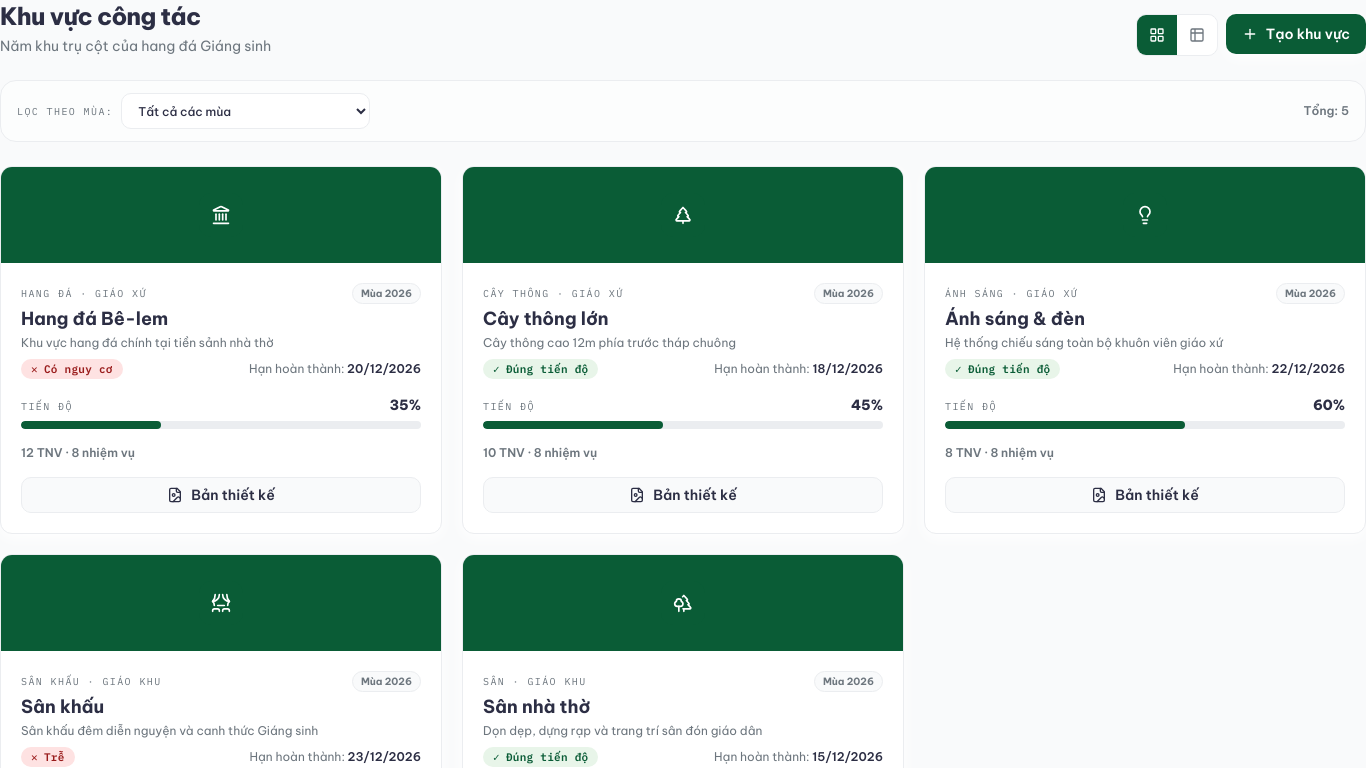
Lọc khu vực theo mùa: chọn mùa 2025 thì không có khu nào, chọn mùa 2026 thì có 5 khu
Chọn mùa s0 (2025)
Select "Mùa Giáng sinh 2025 (Đã chốt)" in the dropdown labelled "Lọc theo mùa:" at (246, 111), box top-left (121, 93), bottom-right (370, 129)
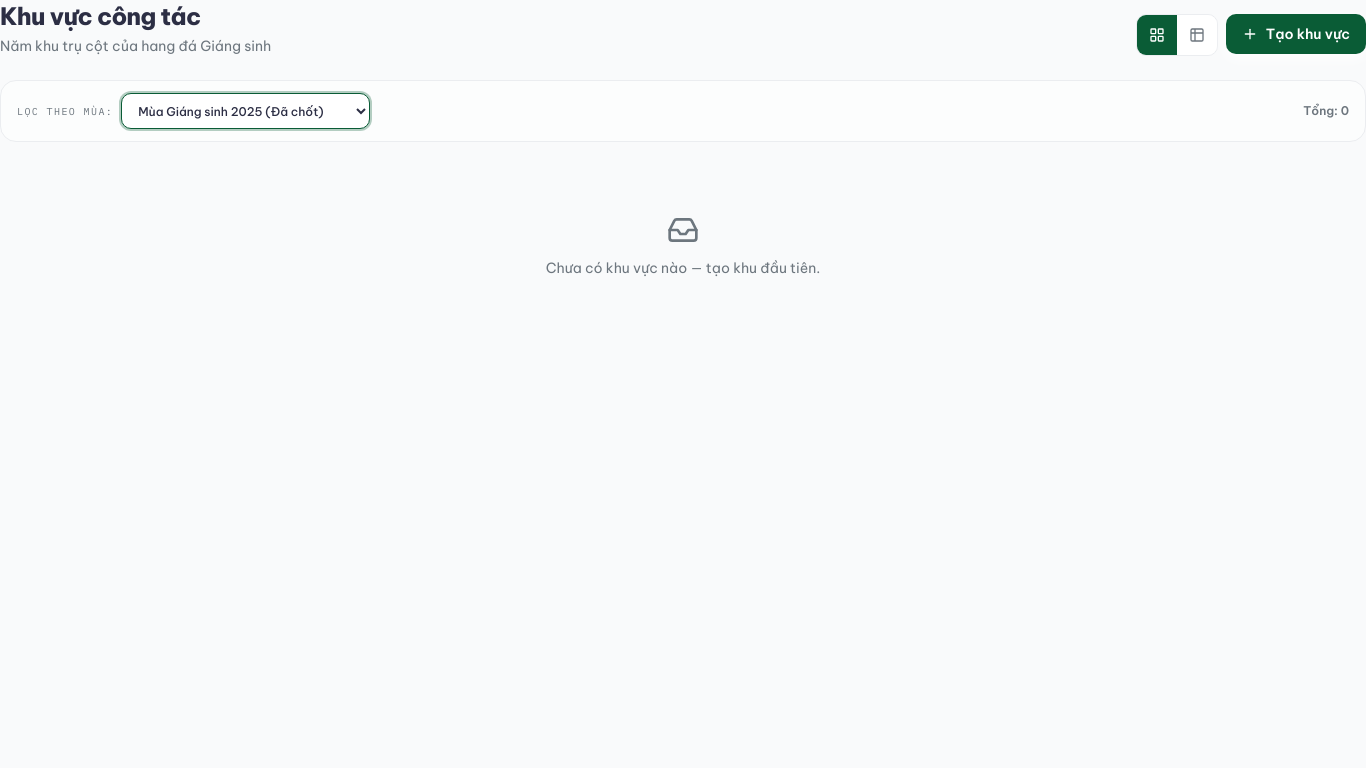
Expected: the text "Chưa có khu vực nào — tạo khu đầu tiên." is shown, top-left (546, 258), bottom-right (820, 278)
Chọn mùa s1 (2026)
Select "Mùa Giáng sinh 2026 (Đang chạy)" in the dropdown labelled "Lọc theo mùa:" at (246, 111), box top-left (121, 93), bottom-right (370, 129)
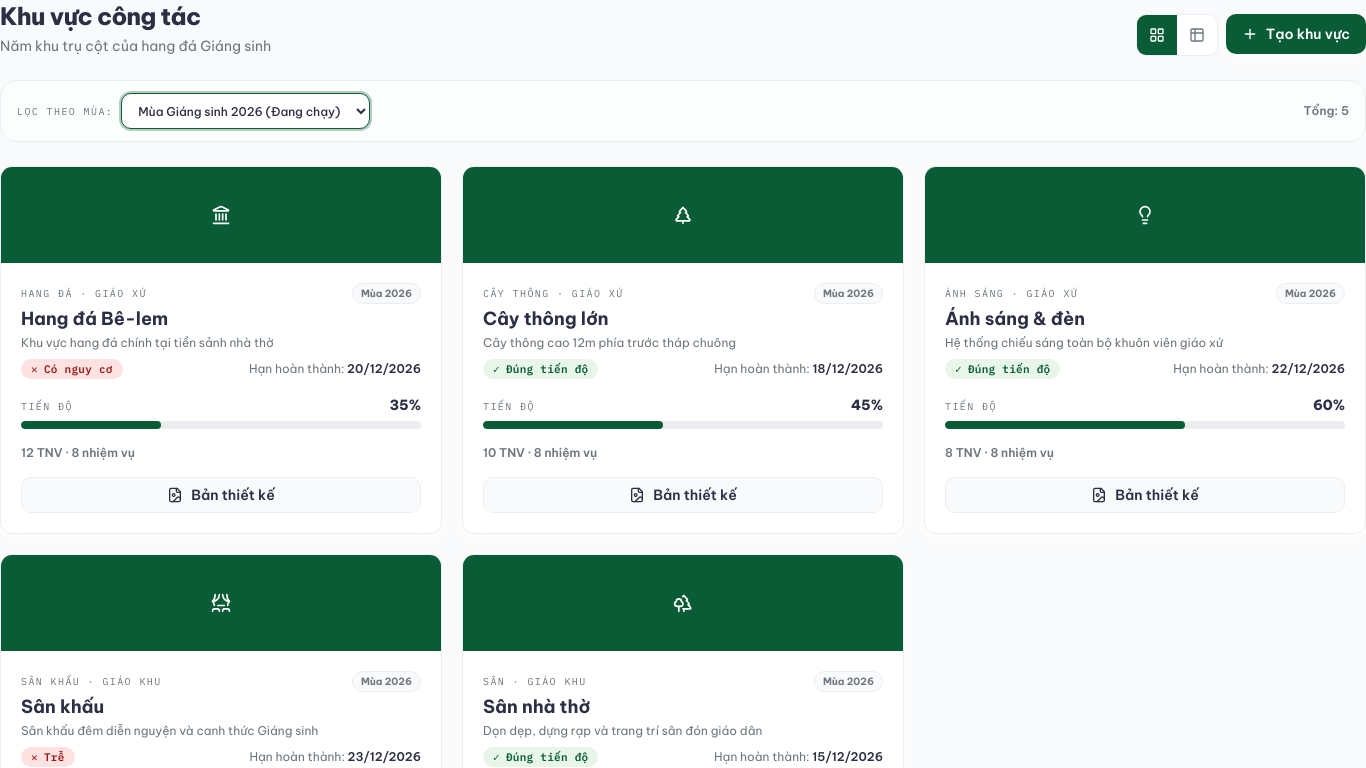
Expected: the heading "Hang đá Bê-lem" is shown, top-left (21, 307), bottom-right (168, 330)
